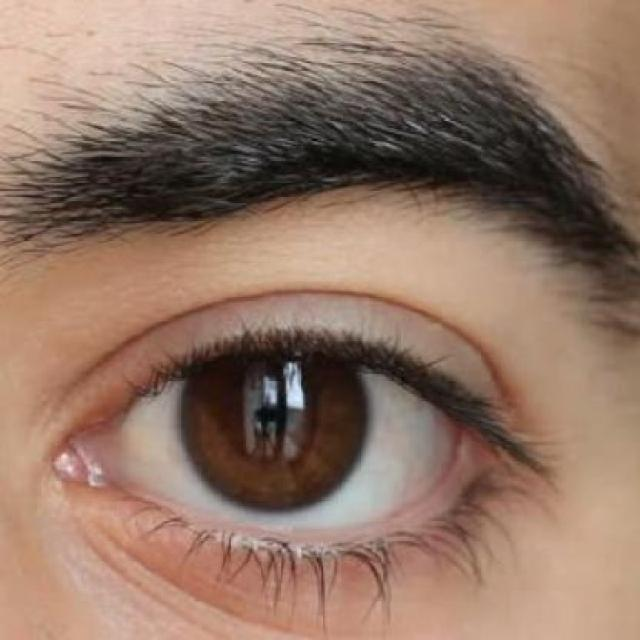awake: (47, 286, 513, 608)
